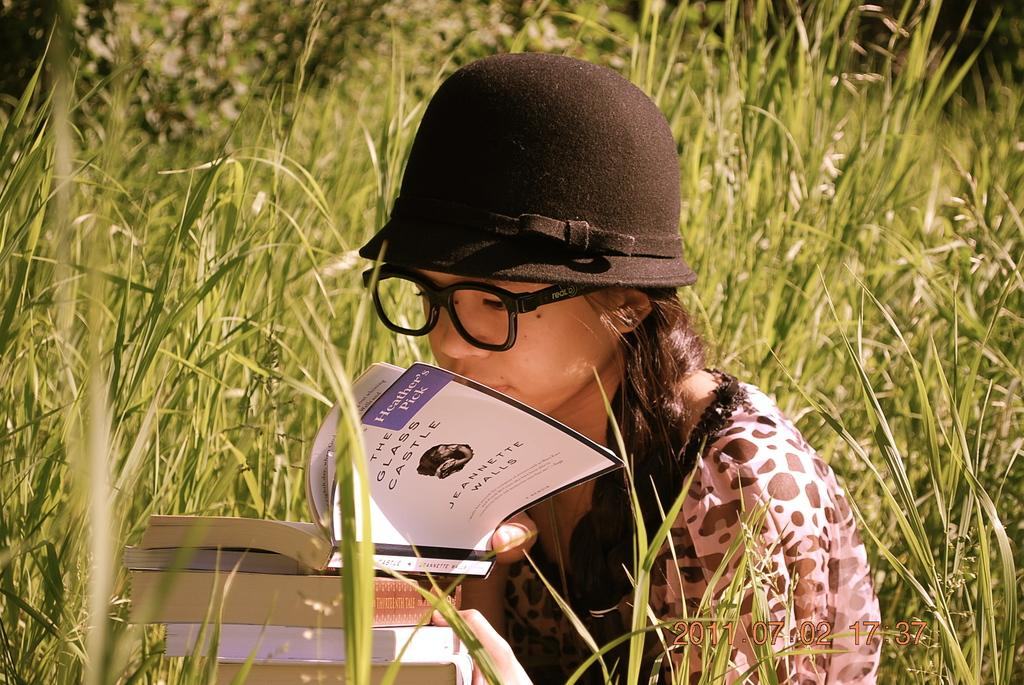Hat: (357, 51, 697, 290)
